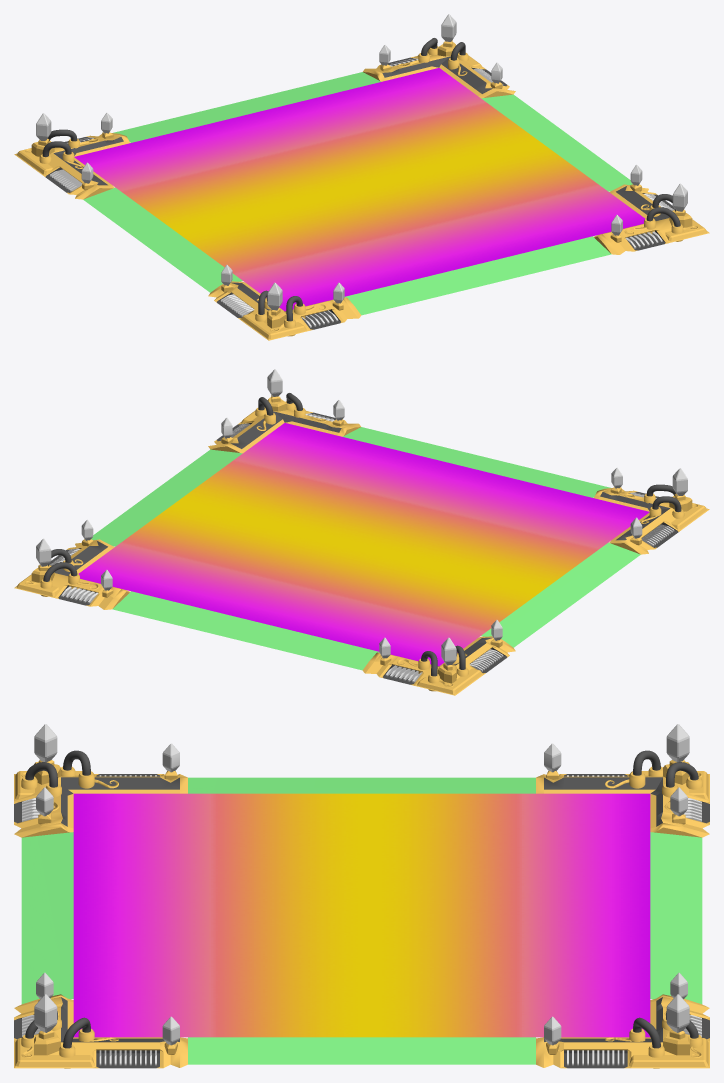
The model's file is 141_Le_Golden_NFT_DIsplay_-_4x4.fbx.
3 renders of one model, top to bottom at view 1: azimuth 30°, elevation 25°; view 2: azimuth 150°, elevation 25°; view 3: azimuth 270°, elevation 25°, orthographic. The views are drawn at different scales.
Parts seen in each view (by area): view 1: NFTGolden4x4; view 2: NFTGolden4x4; view 3: NFTGolden4x4.
Boxes of the visible parts, x1,y1,x2,y2 form: NFTGolden4x4: (14, 14, 709, 340); NFTGolden4x4: (14, 369, 709, 695); NFTGolden4x4: (14, 724, 709, 1068).
Size of the model in its own units: 3.99 by 0.4224 by 3.99.
